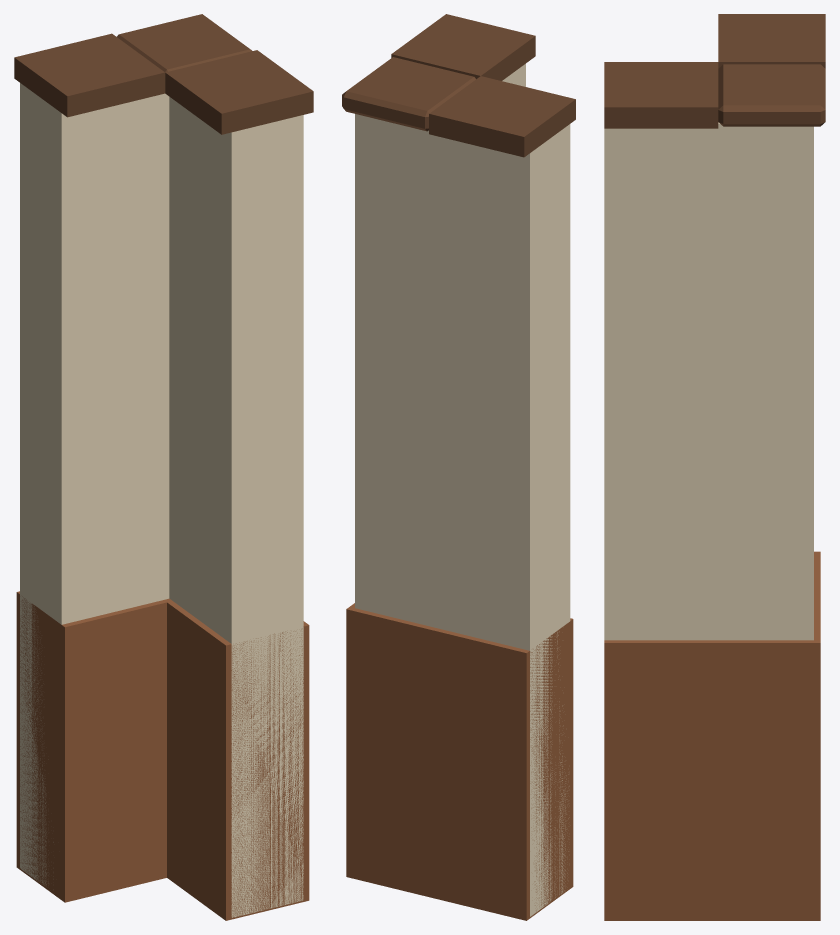
Rendered from wall_corner.glb.
3 renders of one model, left to right at view 1: azimuth 30°, elevation 25°; view 2: azimuth 150°, elevation 25°; view 3: azimuth 270°, elevation 25°, orthographic. The views are drawn at different scales.
Parts seen in each view (by area): view 1: wall_corner; view 2: wall_corner; view 3: wall_corner.
Part boxes in pixels (x1,y1,x2,y2): wall_corner: [14, 14, 313, 920]; wall_corner: [342, 14, 575, 920]; wall_corner: [604, 14, 825, 920].
Bounding box in the file's own units: 0.66 × 2.69 × 0.66.
